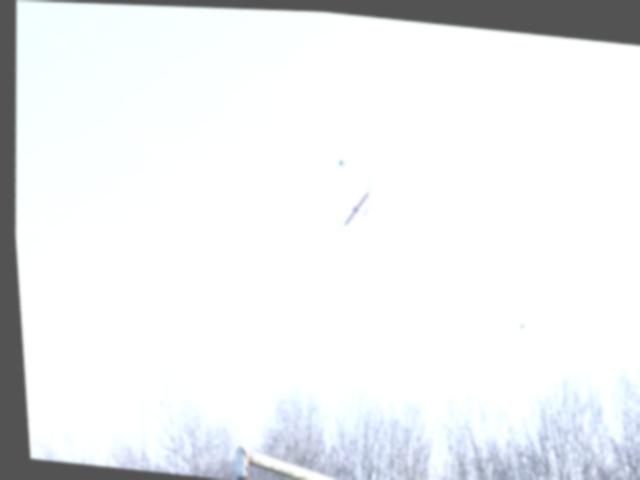uav: (324, 175, 381, 235)
